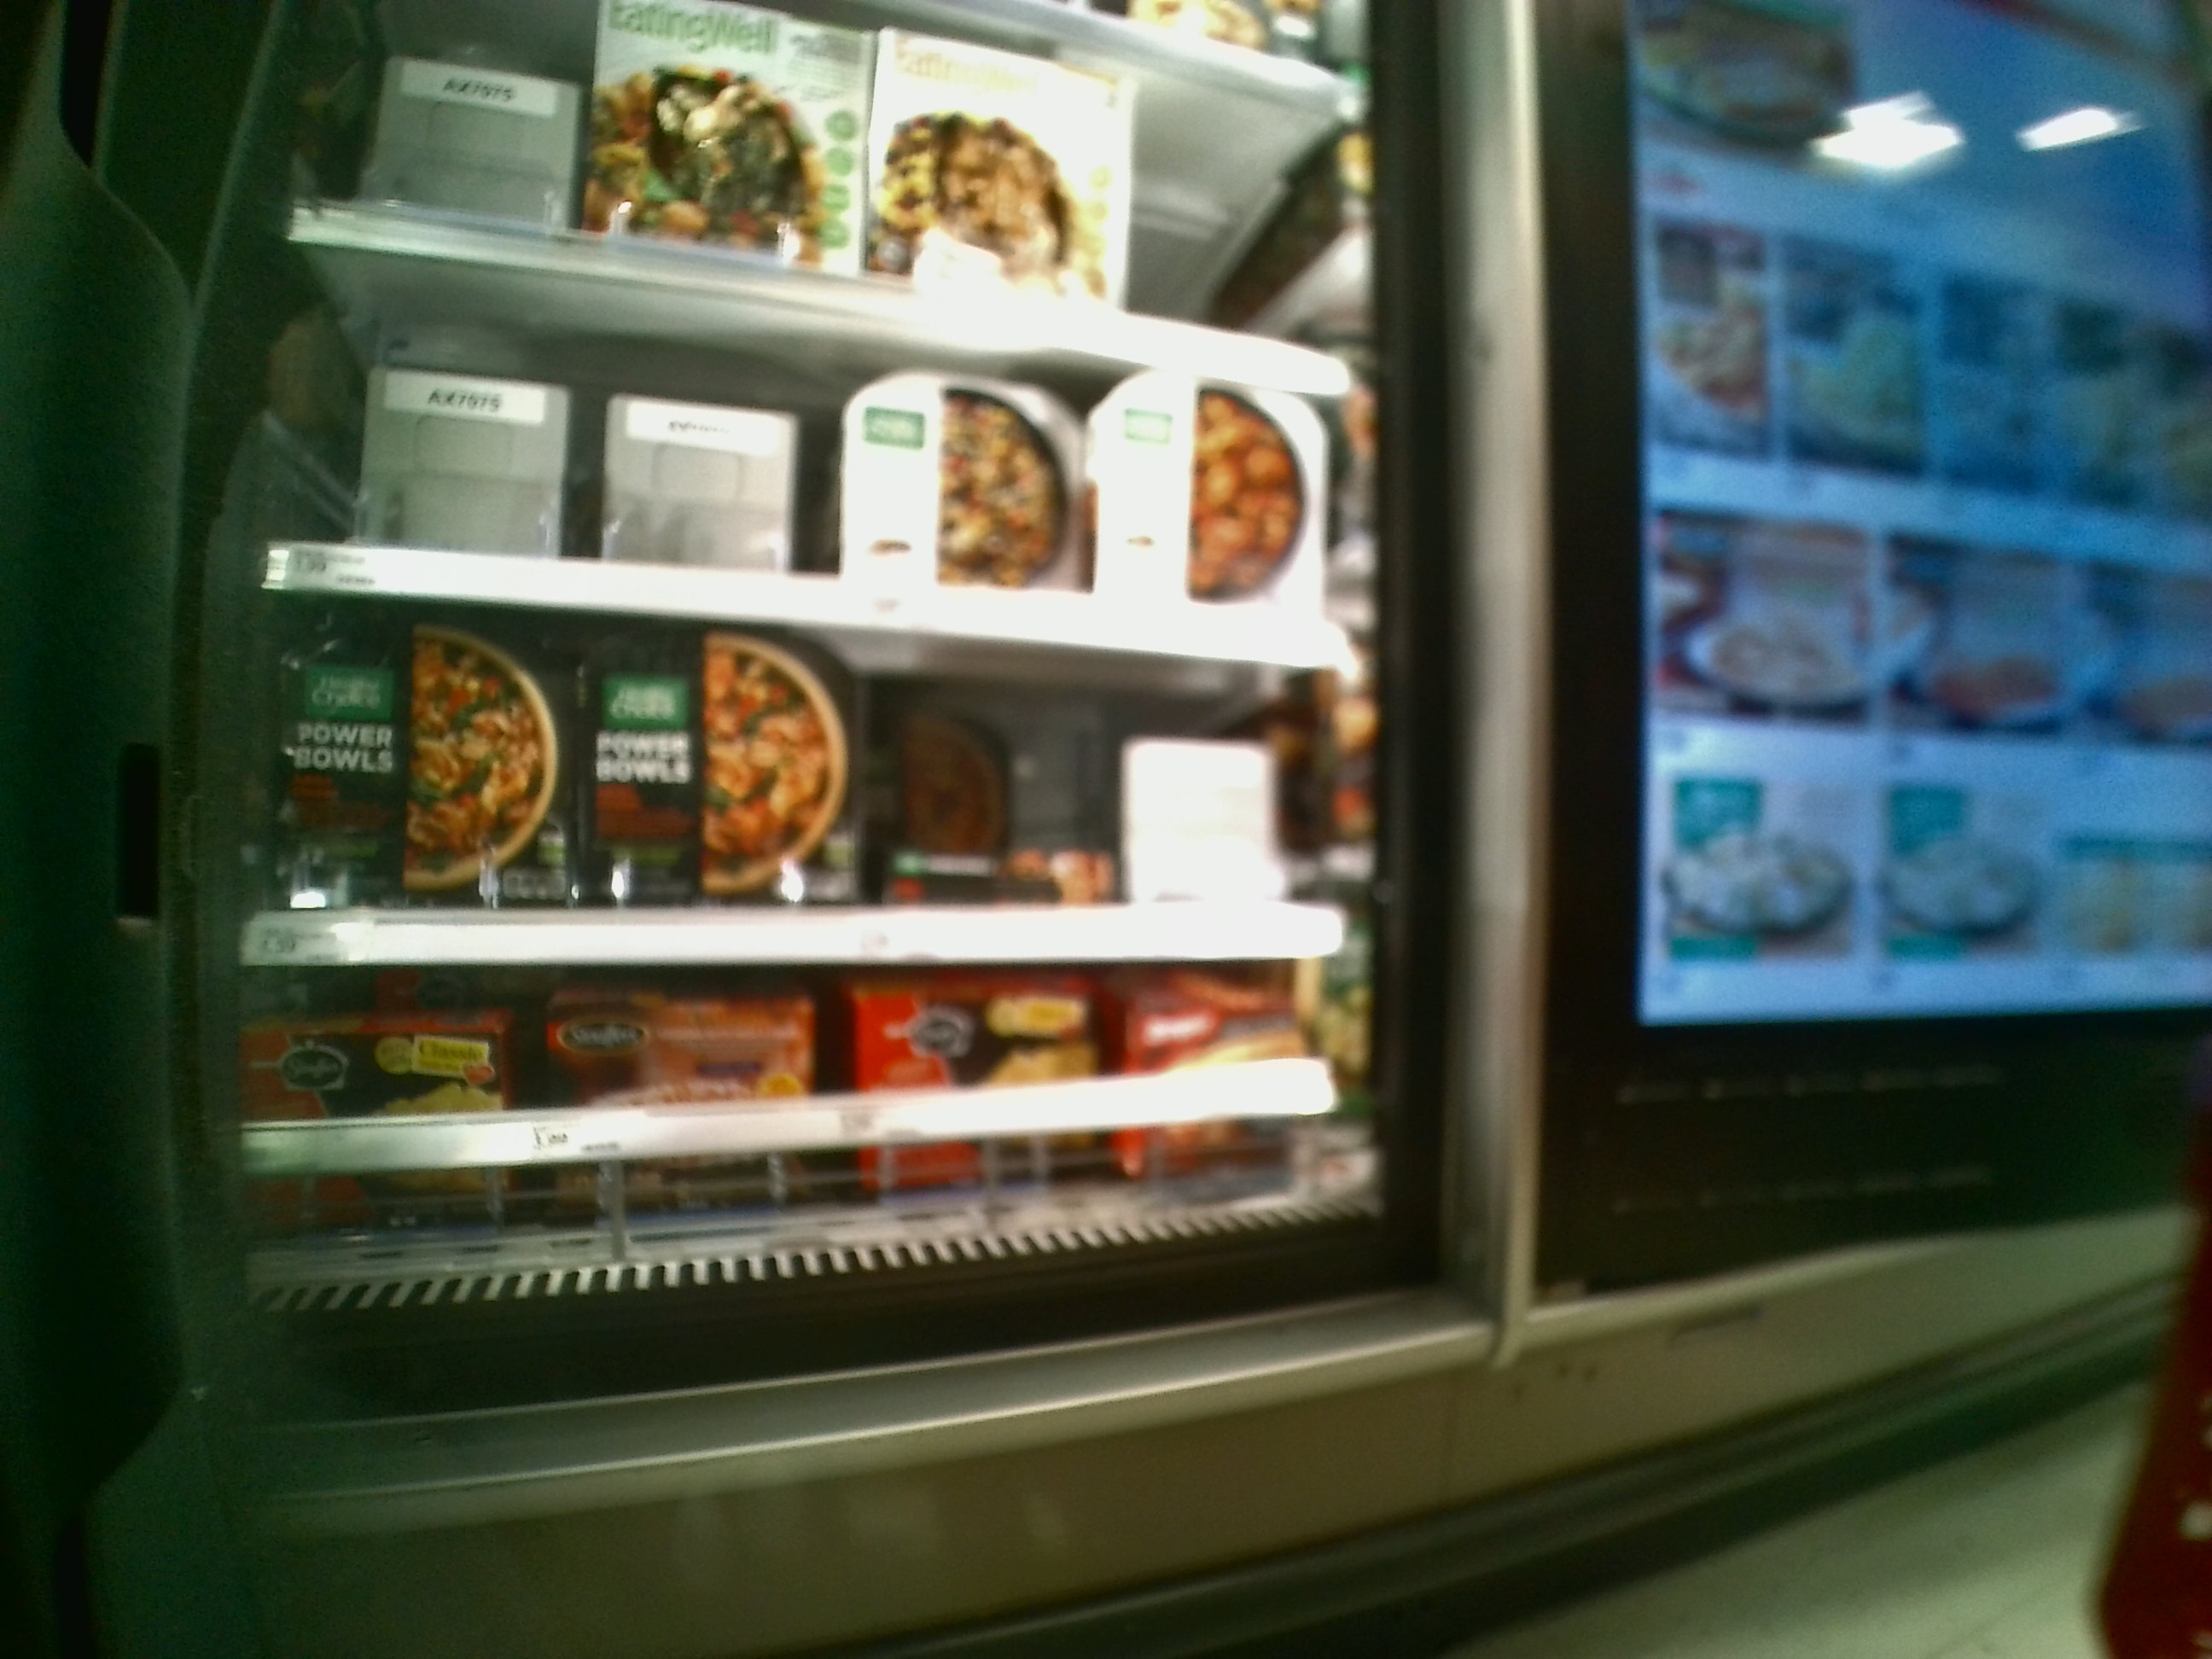shelf: (268, 232, 1366, 667), (246, 592, 1360, 964), (225, 964, 1416, 1310)
